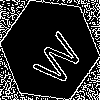W: (25, 25, 85, 90)
